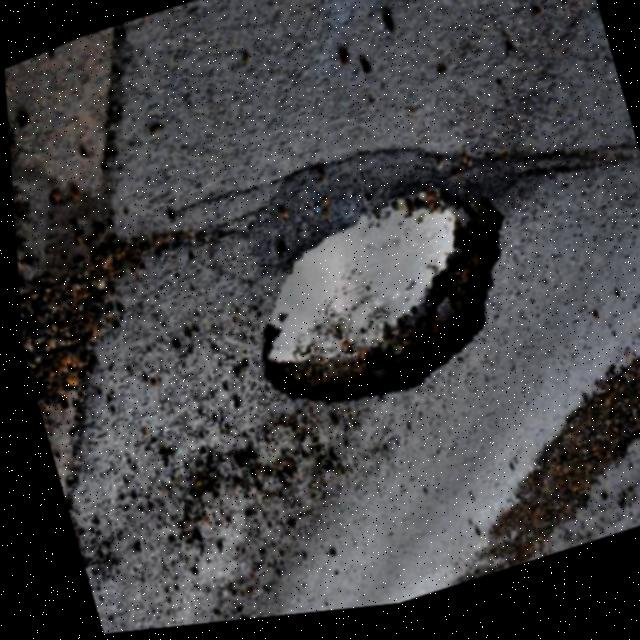Pothole: (192, 144, 569, 489)
